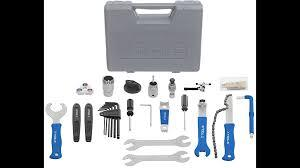wrench: (121, 149, 190, 167), (122, 134, 190, 151), (96, 99, 121, 139), (234, 93, 256, 138), (138, 101, 153, 127)
